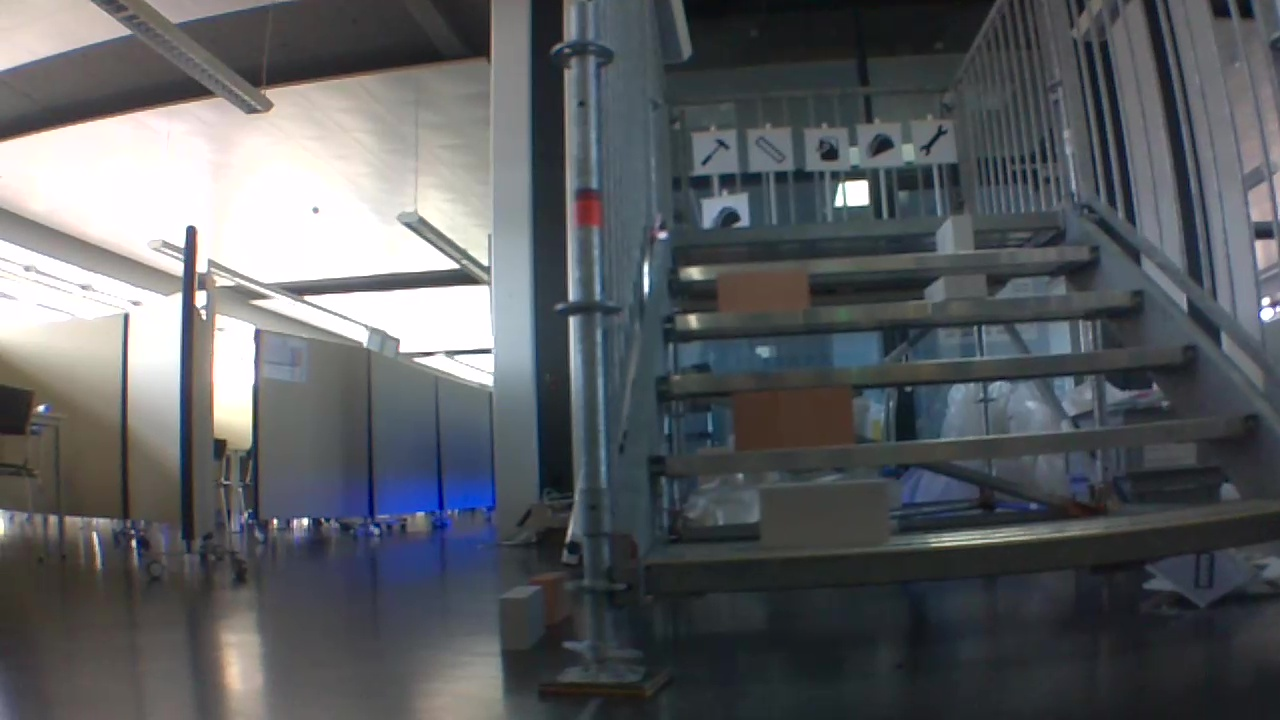brick: (762, 477, 888, 546), (734, 388, 852, 446), (717, 266, 808, 312), (499, 584, 540, 648), (538, 567, 567, 624), (924, 273, 985, 298), (934, 215, 972, 251)
bucket: (811, 130, 844, 167)
edge: (639, 506, 1276, 594), (648, 416, 1262, 469), (658, 345, 1199, 394), (662, 288, 1142, 330), (670, 244, 1100, 278), (673, 210, 1064, 238)
hammer: (696, 135, 731, 169)
ruler: (748, 132, 789, 167)
stairs: (532, 2, 1280, 699)
steps: (624, 193, 1280, 608)
taco: (863, 128, 897, 163), (706, 203, 741, 228)
wrench: (915, 121, 951, 159)
